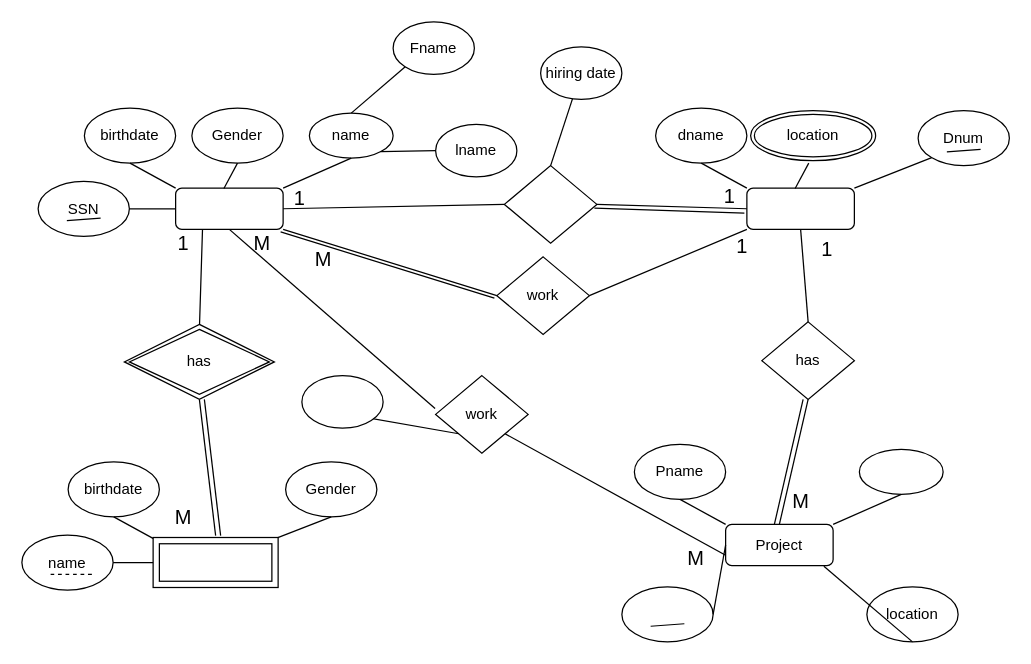
Some shapes in this 1031 by 664 pixel diagram are drawn without their labels. The box of each missing label's shape, as (x1, y1, x2, y2) in pixels:
city: (858, 448, 943, 494)
dep: (746, 187, 854, 229)
dependent: (152, 536, 278, 588)
Emp: (174, 187, 283, 229)
manage: (503, 164, 597, 243)
num: (621, 586, 713, 642)
work hours: (301, 374, 383, 428)
